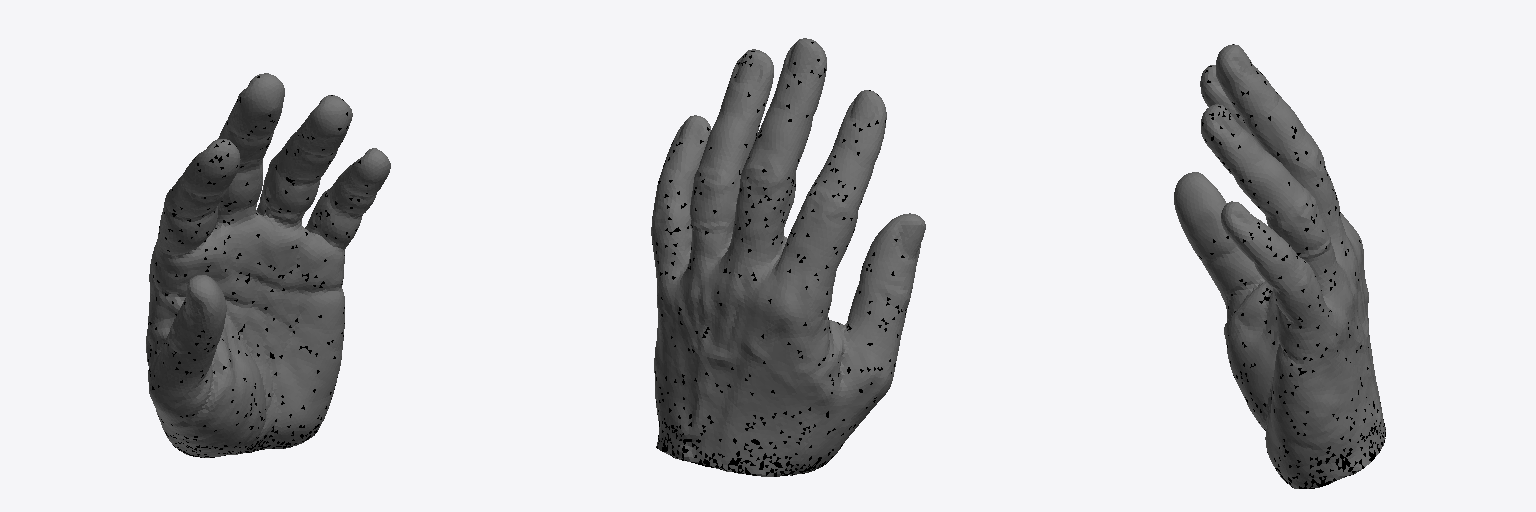
The model's file is hand.obj.
3 views of the same model, side by side, from view 1: azimuth 30°, elevation 25°; view 2: azimuth 150°, elevation 25°; view 3: azimuth 270°, elevation 25° (orthographic).
Size of the model in its own units: 0.8004 by 1.37 by 0.6513.